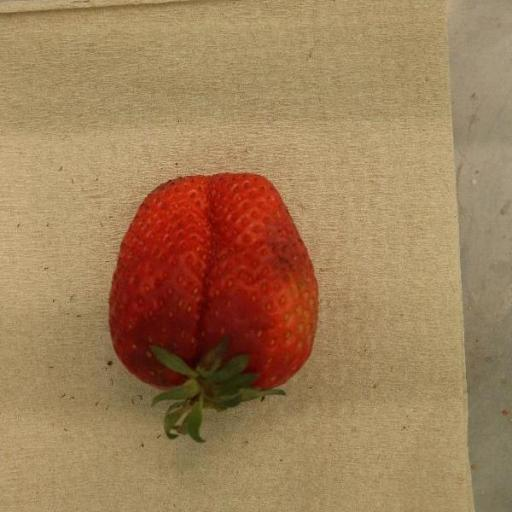Strawberry: (108, 173, 319, 445)
